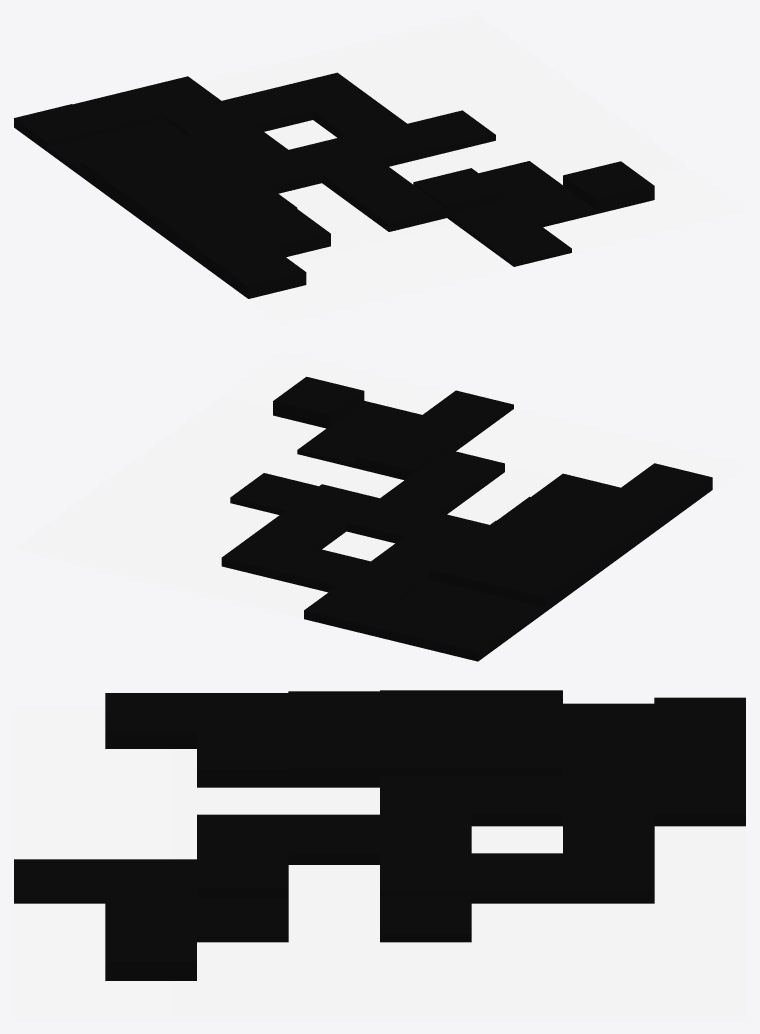
File: Cyberpunk Square Tile.003.glb
3 views of the same model, one above another, from view 1: azimuth 30°, elevation 25°; view 2: azimuth 150°, elevation 25°; view 3: azimuth 270°, elevation 25° (orthographic). The views are drawn at different scales.
Parts seen in each view (by area): view 1: Cyberpunk Square Tile.003; view 2: Cyberpunk Square Tile.003; view 3: Cyberpunk Square Tile.003.
Part boxes in pixels (x1,y1,x2,y2): Cyberpunk Square Tile.003: (14,14,745,323); Cyberpunk Square Tile.003: (14,352,745,661); Cyberpunk Square Tile.003: (14,690,745,1019).
Bounding box in the file's own units: 0.7964 × 0.0243 × 0.7964.
Materials: 1 (1 with a texture image).
